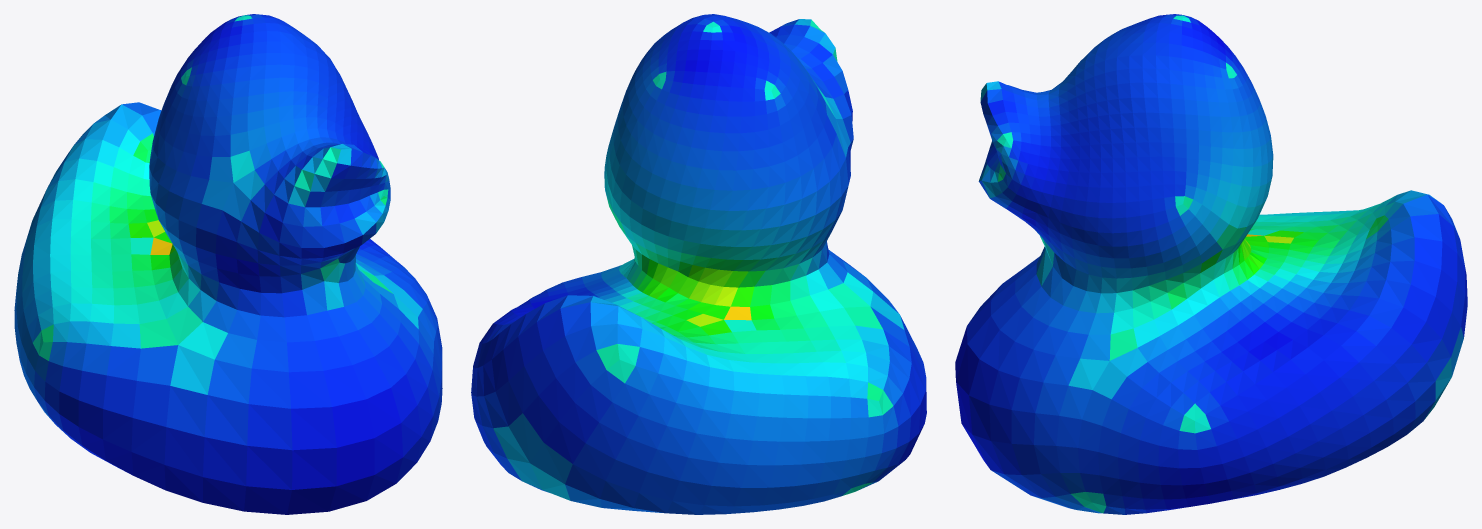
The model's file is duck_quad2_opt_quality.obj.
3 views of the same model, side by side, from view 1: azimuth 30°, elevation 25°; view 2: azimuth 150°, elevation 25°; view 3: azimuth 270°, elevation 25° (orthographic). The views are drawn at different scales.
Bounding box in the file's own units: 70.1 × 78.17 × 81.66.
